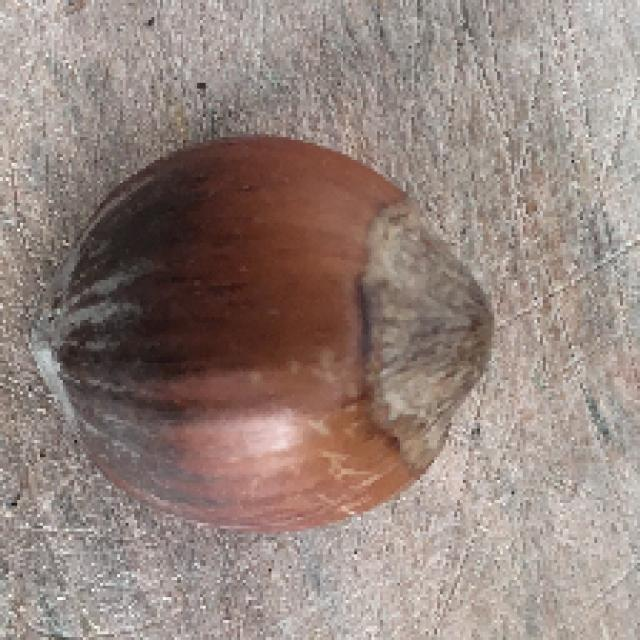DamagedHazelnut: (25, 140, 490, 525)
